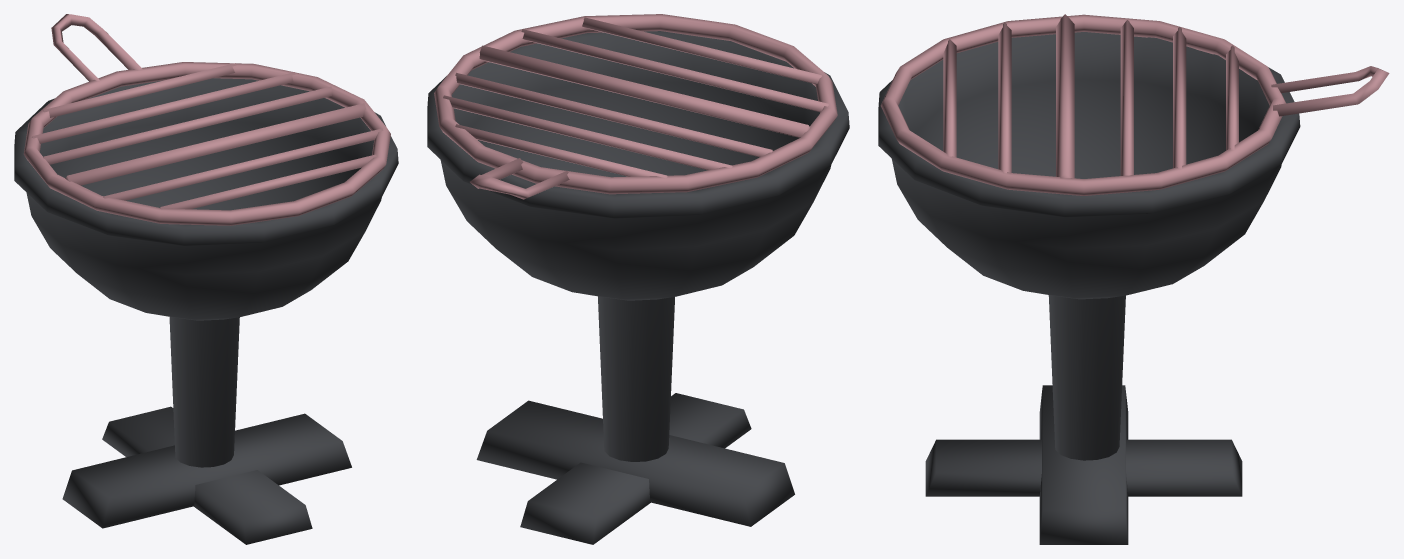
File: grill.fbx
3 renders of one model, left to right at view 1: azimuth 30°, elevation 25°; view 2: azimuth 150°, elevation 25°; view 3: azimuth 270°, elevation 25°, orthographic. The views are drawn at different scales.
Parts seen in each view (by area): view 1: Sphere; view 2: Sphere; view 3: Sphere.
Part boxes in pixels (x1,y1,x2,y2): Sphere: [14, 14, 398, 544]; Sphere: [427, 14, 849, 544]; Sphere: [878, 14, 1389, 544].
Bounding box in the file's own units: 95.96 × 102 × 116.
